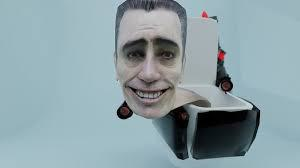skibidi-toilet: (115, 3, 185, 119)
